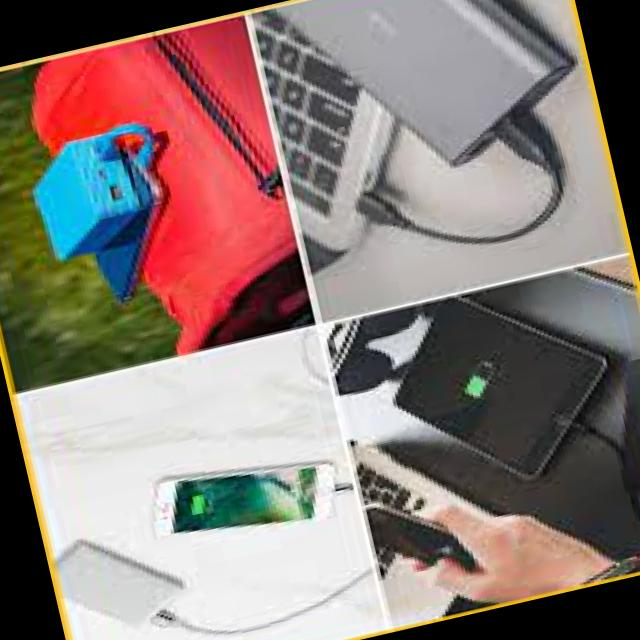portable-charger: (260, 0, 606, 205), (14, 128, 172, 264), (44, 514, 204, 640)
